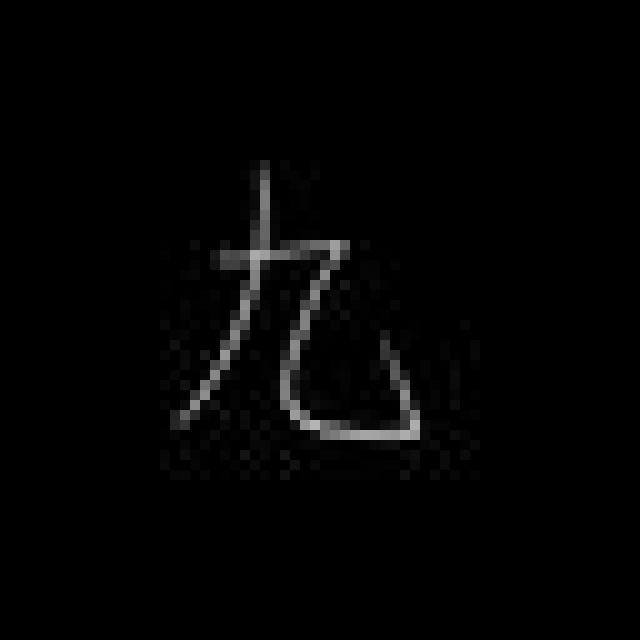9 -nine-: (168, 163, 432, 453)
